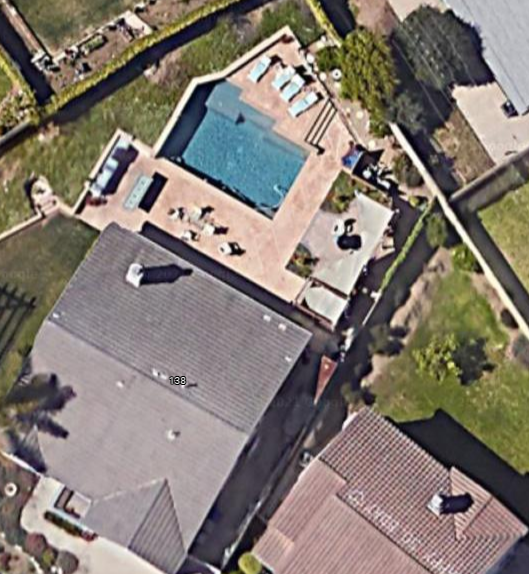poolww: (136, 71, 316, 225)
